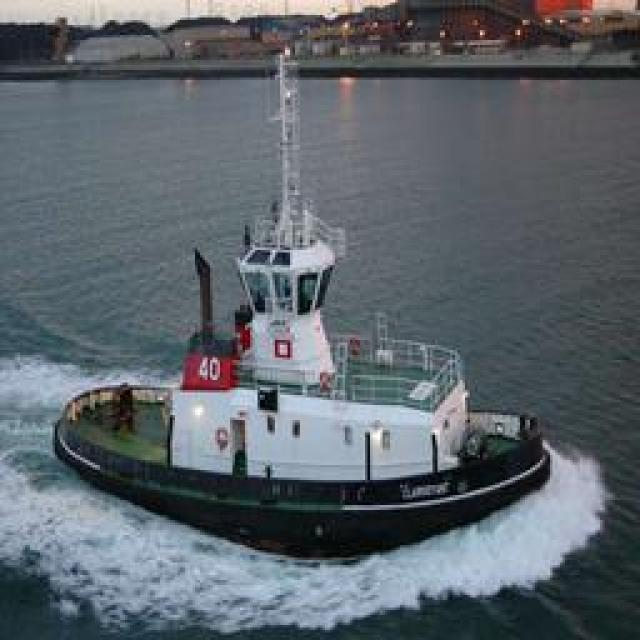ship2: (51, 54, 552, 561)
